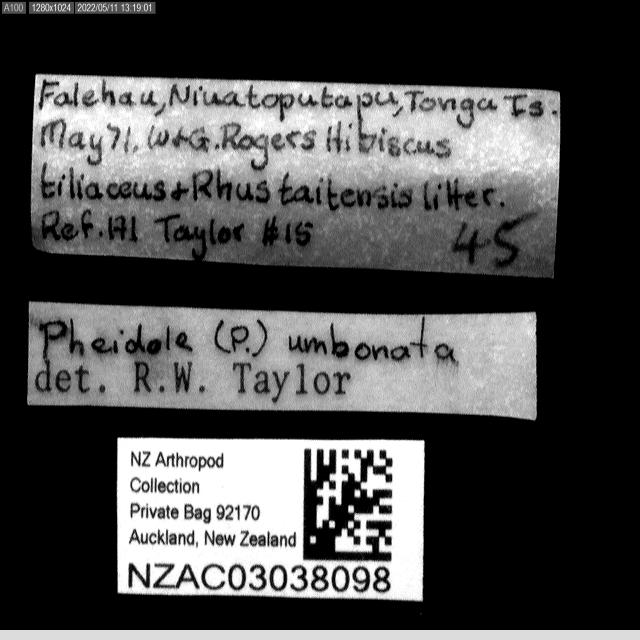hand_label: (31, 75, 560, 277)
mixed_label: (28, 302, 536, 419)
typed_label: (118, 438, 424, 600)
